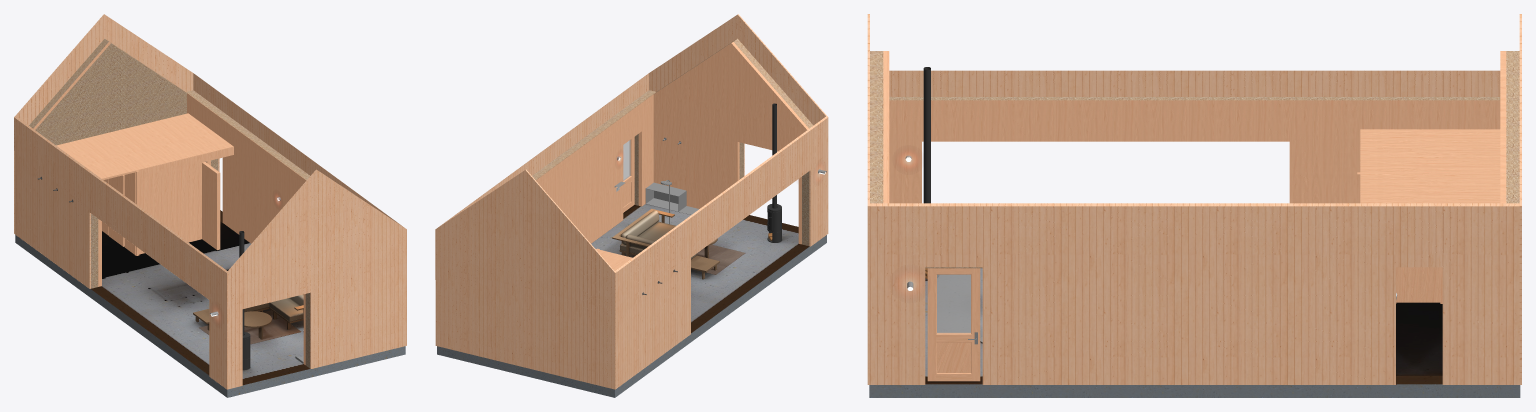
File: Light_Base.glb
The picture shows the model from 3 angles, left to right: view 1: azimuth 30°, elevation 25°; view 2: azimuth 150°, elevation 25°; view 3: azimuth 270°, elevation 25°; orthographic projection. The views are drawn at different scales.
Parts seen in each view (by area): view 1: Exterior_Wood_Light_Base, Interior_Wood_Light_Base, Concrete_Light_Base, Insolation_Light_Base, Concrete_Light_Base.001, Interior_Light_Wood_Light_Base, Carpet fabric_Light_Base, Beige Fabric_Light_Base, Fire Place_Light_Base; view 2: Exterior_Wood_Light_Base, Interior_Wood_Light_Base, Concrete_Light_Base, Concrete_Light_Base.001, Insolation_Light_Base, Alumininum_1_Light_Base, Beige Fabric_Light_Base, Interior_Light_Wood_Light_Base, Fire Place_Light_Base, Carpet fabric_Light_Base; view 3: Exterior_Wood_Light_Base, Interior_Wood_Light_Base, Concrete_Light_Base.001, Insolation_Light_Base, Concrete_Light_Base, Glass_Light_Base, Fire Place_Light_Base.
Part boxes in pixels (<box>): Exterior_Wood_Light_Base: <box>14,14,406,389</box>; Interior_Wood_Light_Base: <box>33,42,306,364</box>; Concrete_Light_Base: <box>91,210,309,385</box>; Insolation_Light_Base: <box>29,39,309,368</box>; Concrete_Light_Base.001: <box>15,235,405,397</box>; Interior_Light_Wood_Light_Base: <box>193,305,303,339</box>; Carpet fabric_Light_Base: <box>199,310,301,344</box>; Beige Fabric_Light_Base: <box>244,294,303,321</box>; Fire Place_Light_Base: <box>239,231,250,370</box>; Exterior_Wood_Light_Base: <box>435,14,828,389</box>; Interior_Wood_Light_Base: <box>536,42,808,270</box>; Concrete_Light_Base: <box>591,204,809,332</box>; Concrete_Light_Base.001: <box>437,235,826,397</box>; Insolation_Light_Base: <box>532,38,813,245</box>; Alumininum_1_Light_Base: <box>614,137,826,224</box>; Beige Fabric_Light_Base: <box>620,210,696,259</box>; Interior_Light_Wood_Light_Base: <box>612,208,719,279</box>; Fire Place_Light_Base: <box>767,103,781,242</box>; Carpet fabric_Light_Base: <box>696,244,745,274</box>; Exterior_Wood_Light_Base: <box>867,14,1521,384</box>; Interior_Wood_Light_Base: <box>883,51,1506,381</box>; Concrete_Light_Base.001: <box>869,384,1520,397</box>; Insolation_Light_Base: <box>870,51,1519,268</box>; Concrete_Light_Base: <box>925,268,1442,384</box>; Glass_Light_Base: <box>937,274,970,333</box>; Fire Place_Light_Base: <box>923,67,938,280</box>.
Size of the model in its own units: 2.34 by 2.39 by 4.51.
Materials: 20 (11 with a texture image).
